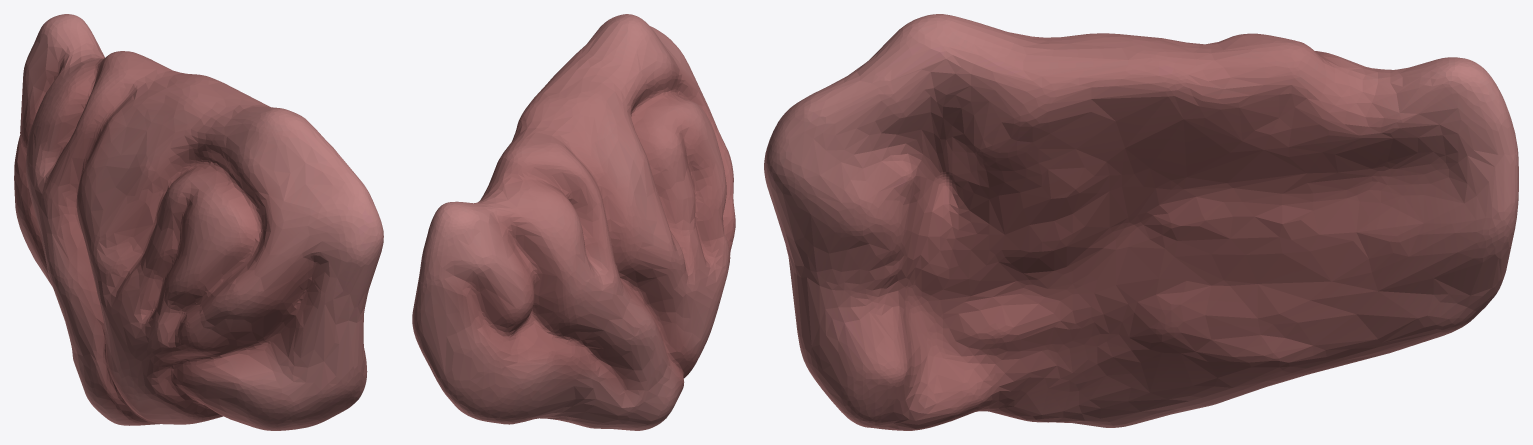
File: Left_insula.obj
The picture shows the model from 3 angles, left to right: view 1: azimuth 30°, elevation 25°; view 2: azimuth 150°, elevation 25°; view 3: azimuth 270°, elevation 25°; orthographic projection. The views are drawn at different scales.
Parts seen in each view (by area): view 1: obj0; view 2: obj0; view 3: obj0.
Part boxes in pixels (x1,y1,x2,y2): obj0: (14,14,383,430); obj0: (412,14,735,430); obj0: (764,14,1518,430).
Size of the model in its own units: 13.31 by 23.78 by 35.56.
Materials: 1 (1 with a texture image).
